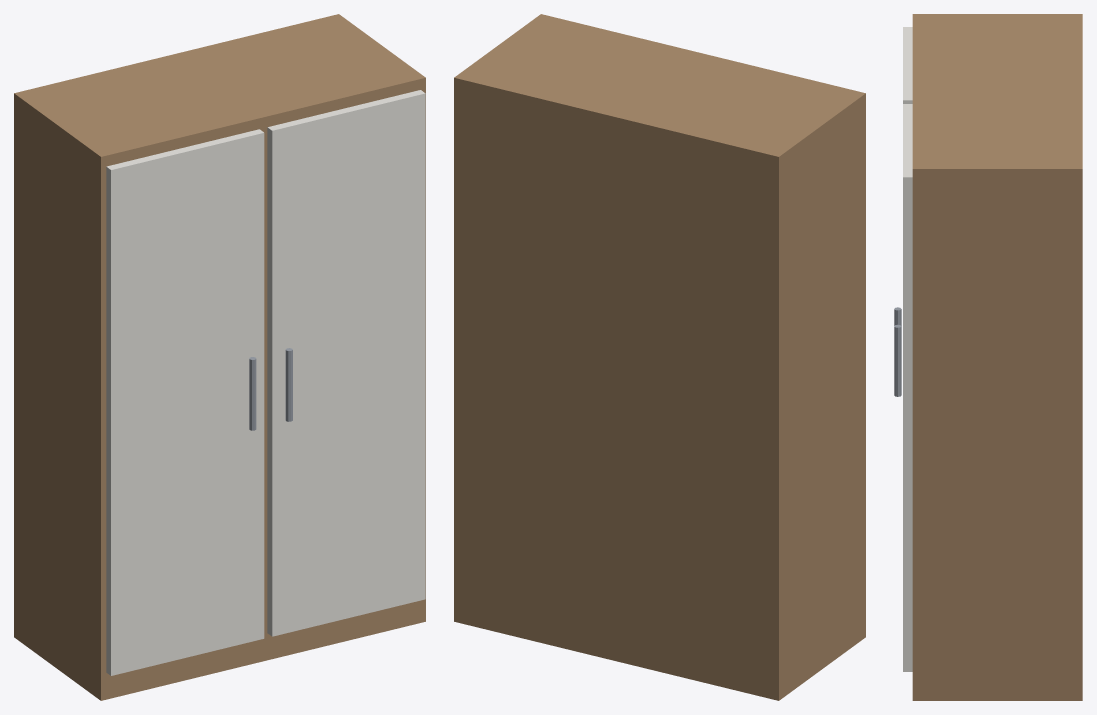
3 renders of one model, left to right at view 1: azimuth 30°, elevation 25°; view 2: azimuth 150°, elevation 25°; view 3: azimuth 270°, elevation 25°, orthographic. The views are drawn at different scales.
Parts seen in each view (by area): view 1: Body, Door.L, Door.R; view 2: Body; view 3: Body, Door.R, Door.L, Handle.R.
Part boxes in pixels (box(x1,y1,x2,y2)): Body: box(14, 14, 425, 700); Door.L: box(106, 129, 264, 675); Door.R: box(267, 90, 425, 636); Body: box(454, 14, 865, 700); Body: box(912, 14, 1082, 700); Door.R: box(903, 104, 912, 671); Door.L: box(903, 27, 912, 103); Handle.R: box(894, 324, 901, 396).
Size of the model in its own units: 1.25 by 2 by 0.6425.
